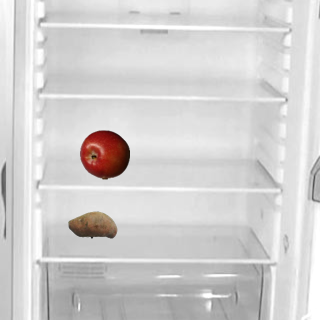Apple Braeburn: (79, 129, 129, 179)
Potato Sweet: (67, 199, 117, 249)
